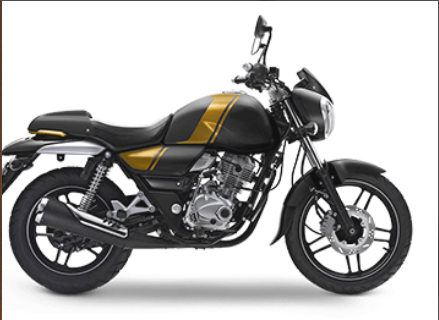Bike: (14, 87, 418, 294)
